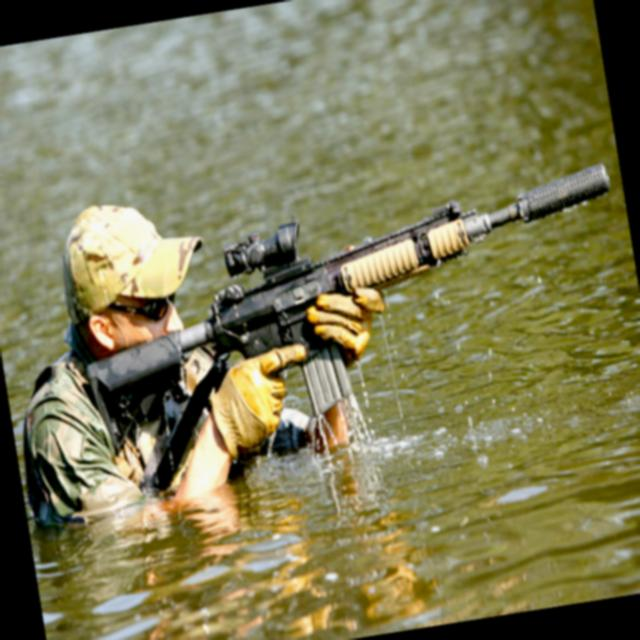rifle: (51, 151, 640, 459)
